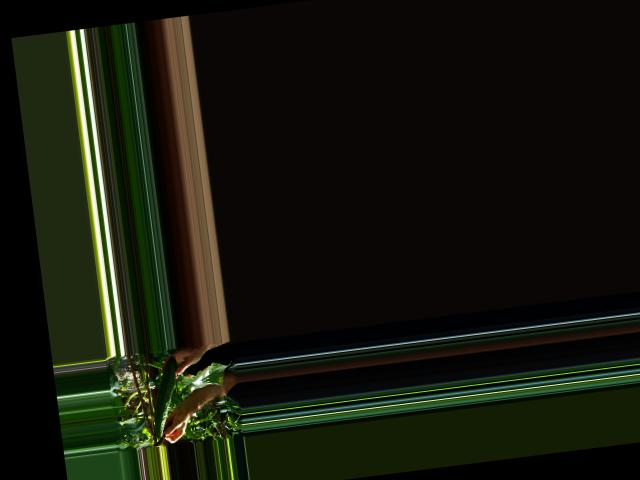cucumber: (146, 356, 186, 437)
